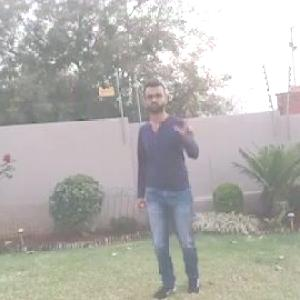land_hand: (173, 99, 204, 141)
